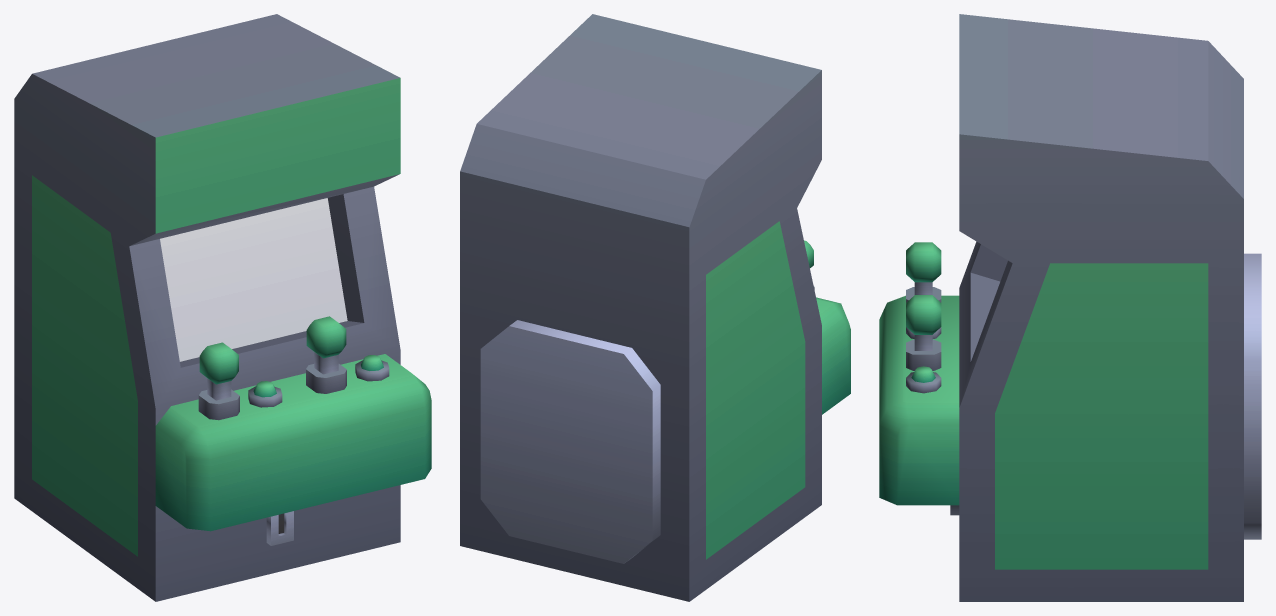
File: arcade.arcade_machine.glb
3 renders of one model, left to right at view 1: azimuth 30°, elevation 25°; view 2: azimuth 150°, elevation 25°; view 3: azimuth 270°, elevation 25°, orthographic. The views are drawn at different scales.
Visible parts, largest first — view 1: arcade-machine; view 2: arcade-machine; view 3: arcade-machine.
Boxes of the visible parts, <box> form: arcade-machine: <box>14,14,431,601</box>; arcade-machine: <box>460,14,850,601</box>; arcade-machine: <box>879,14,1261,601</box>.
Bounding box in the file's own units: 0.9931 × 1.8 × 1.33.
Materials: 1 (1 with a texture image).
